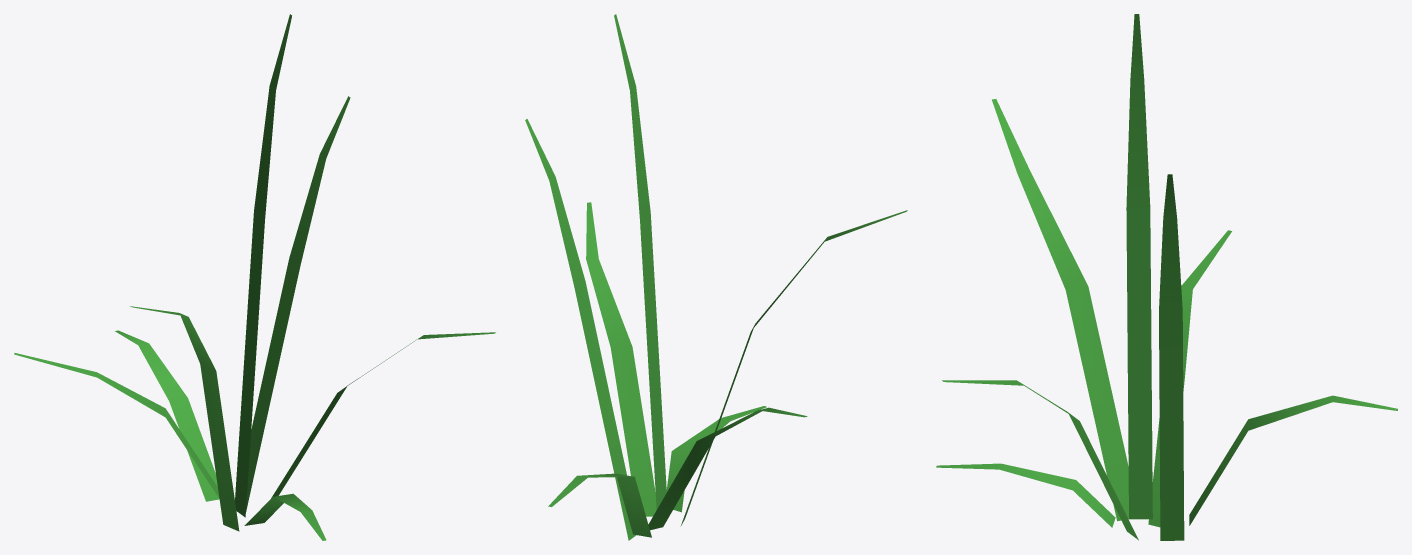
Rendered from grass2.fbx.
The picture shows the model from 3 angles, left to right: view 1: azimuth 30°, elevation 25°; view 2: azimuth 150°, elevation 25°; view 3: azimuth 270°, elevation 25°; orthographic projection. The views are drawn at different scales.
Visible parts, largest first — view 1: grass2; view 2: grass2; view 3: grass2.
Part boxes in pixels (box(x1,y1,x2,y2)): grass2: box(14, 14, 495, 540); grass2: box(525, 14, 907, 540); grass2: box(936, 14, 1397, 540).
Size of the model in its own units: 1.05 by 1.43 by 1.1.
